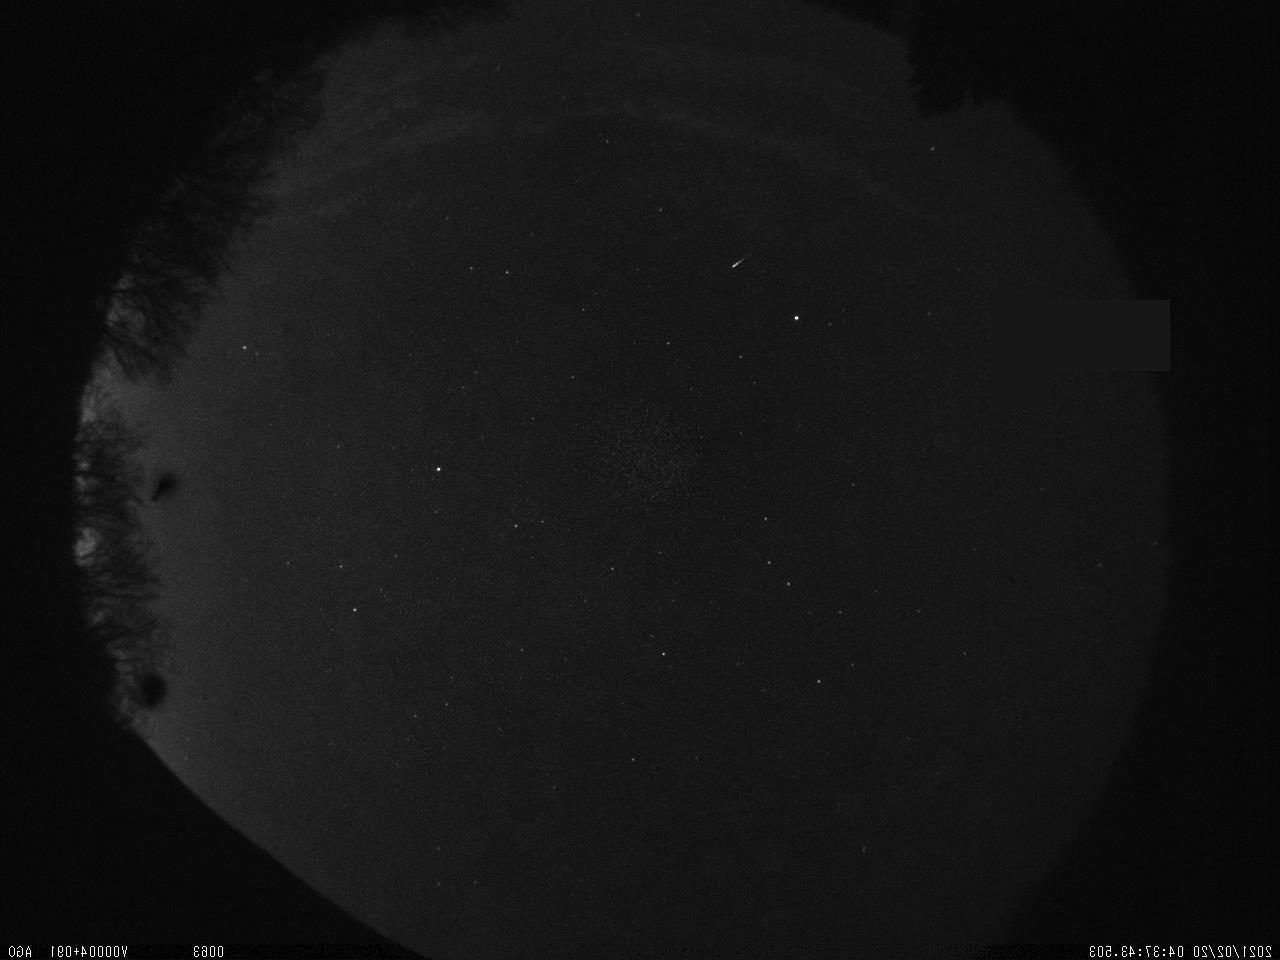meteor: (721, 248, 761, 275)
